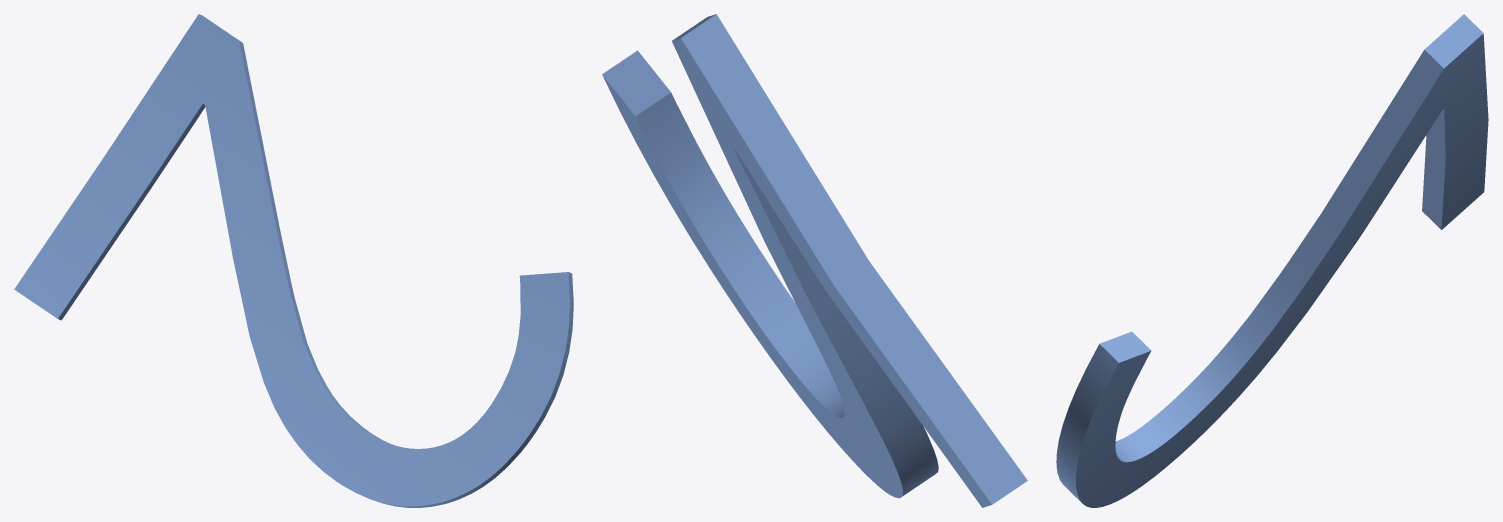
The model's file is Number_2.gltf.
3 views of the same model, side by side, from view 1: azimuth 30°, elevation 25°; view 2: azimuth 150°, elevation 25°; view 3: azimuth 270°, elevation 25° (orthographic). The views are drawn at different scales.
Visible parts, largest first — view 1: Sub_1_Cell_3_3_Number_2; view 2: Sub_1_Cell_3_3_Number_2; view 3: Sub_1_Cell_3_3_Number_2.
Part boxes in pixels (box(x1,y1,x2,y2)): Sub_1_Cell_3_3_Number_2: box(14, 14, 573, 507); Sub_1_Cell_3_3_Number_2: box(602, 14, 1027, 507); Sub_1_Cell_3_3_Number_2: box(1056, 14, 1488, 507).
Bounding box in the file's own units: 0.0233 × 0.0219 × 0.0191.
